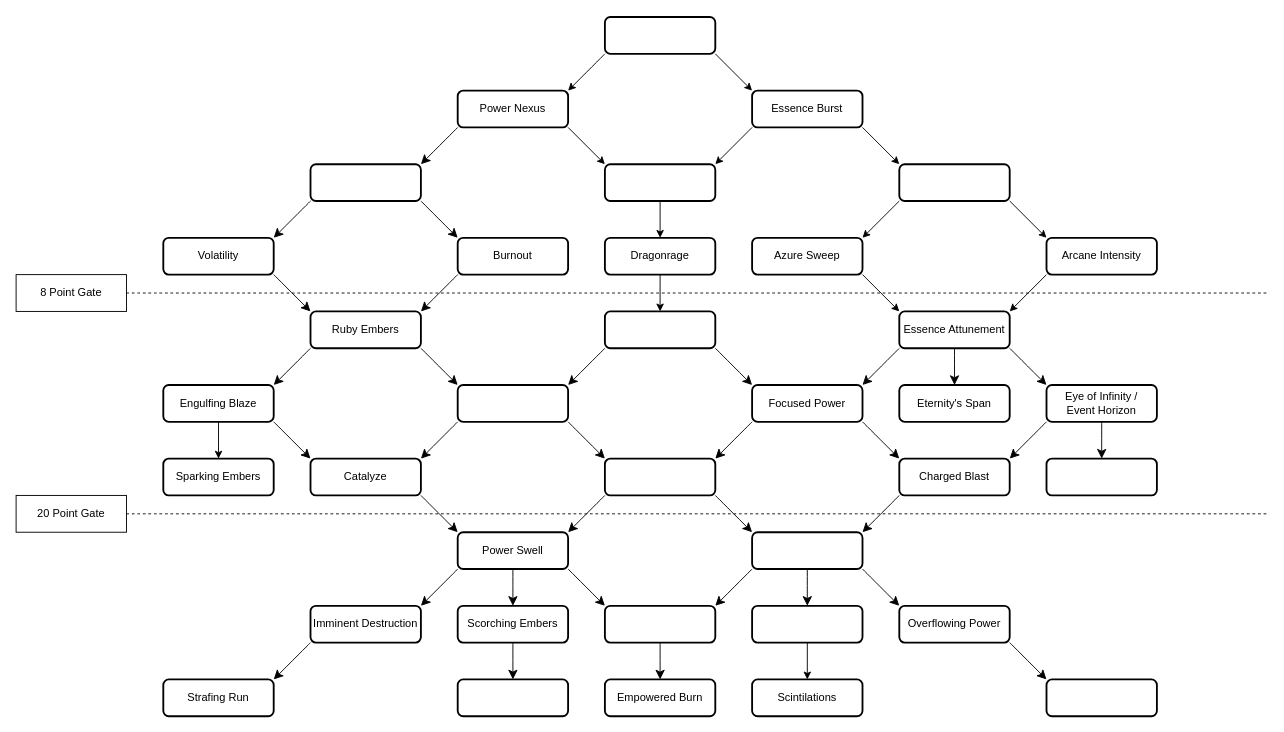
This 1284x732 diagram has some shape labels left out. The centre of each missing label's shape, as x and y in pixels:
Animosity: the point at 660,329
Azure Celerity: the point at 807,623
Causality: the point at 660,35
Essence Burn: the point at 660,623
Eternity Surge: the point at 954,182
Feed the Flames: the point at 512,697
Heat Wave: the point at 512,403
Iridescence: the point at 1101,697
Pyre: the point at 365,182
Quell: the point at 660,182
Shattering Stars: the point at 1101,476
Spellweaver's Dominance: the point at 807,550
Tyranny: the point at 660,476
